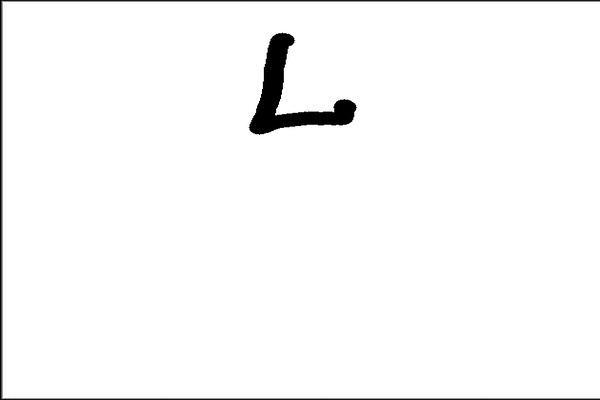L: (245, 26, 361, 140)
